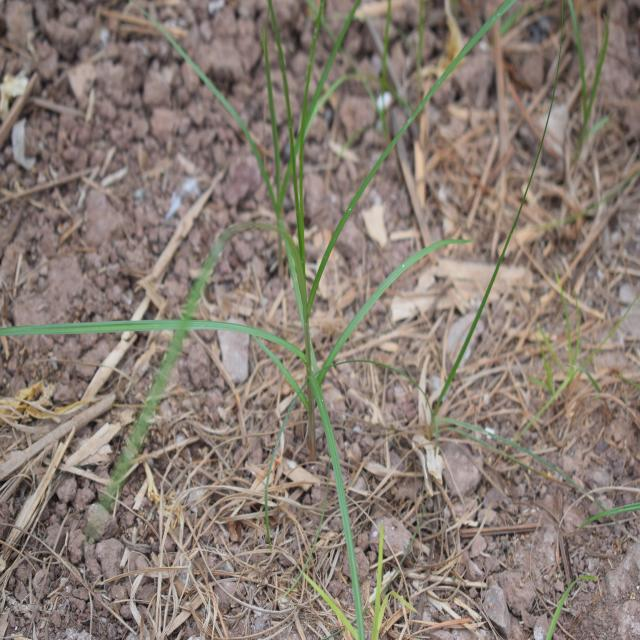sedge: (75, 14, 470, 601)
